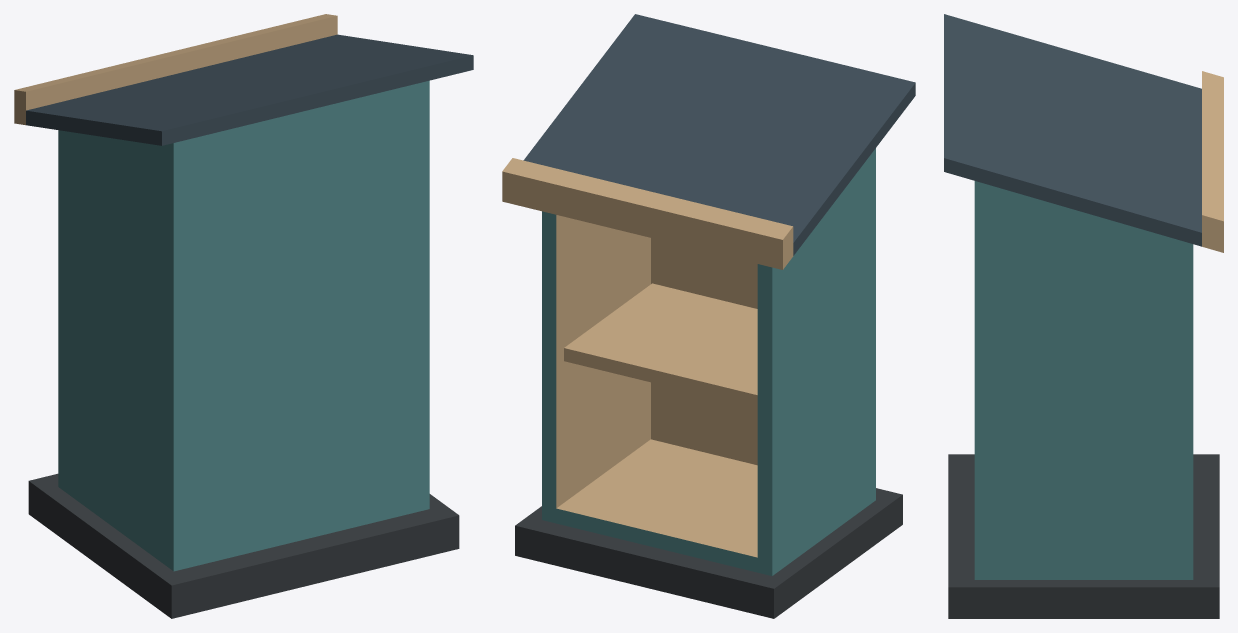
3 renders of one model, left to right at view 1: azimuth 30°, elevation 25°; view 2: azimuth 150°, elevation 25°; view 3: azimuth 270°, elevation 25°, orthographic. The views are drawn at different scales.
Parts seen in each view (by area): view 1: ContinuousThreeSidedLecternShell, SlopedDeskIntegralRetainingLip, BroadGroundLecternPlinth; view 2: ContinuousThreeSidedLecternShell, SlopedDeskIntegralRetainingLip, BroadGroundLecternPlinth, RecessedFixedStorageShelf; view 3: ContinuousThreeSidedLecternShell, SlopedDeskIntegralRetainingLip, BroadGroundLecternPlinth.
Boxes of the visible parts, x1,y1,x2,y2 form: ContinuousThreeSidedLecternShell: [58, 80, 429, 571]; SlopedDeskIntegralRetainingLip: [14, 14, 473, 145]; BroadGroundLecternPlinth: [28, 473, 459, 618]; ContinuousThreeSidedLecternShell: [542, 148, 875, 575]; SlopedDeskIntegralRetainingLip: [502, 14, 915, 269]; BroadGroundLecternPlinth: [515, 488, 902, 618]; RecessedFixedStorageShelf: [564, 283, 757, 408]; ContinuousThreeSidedLecternShell: [974, 181, 1193, 579]; SlopedDeskIntegralRetainingLip: [944, 14, 1223, 252]; BroadGroundLecternPlinth: [948, 454, 1219, 618].
Bounding box in the file's own units: 0.78 × 1.18 × 0.64.
